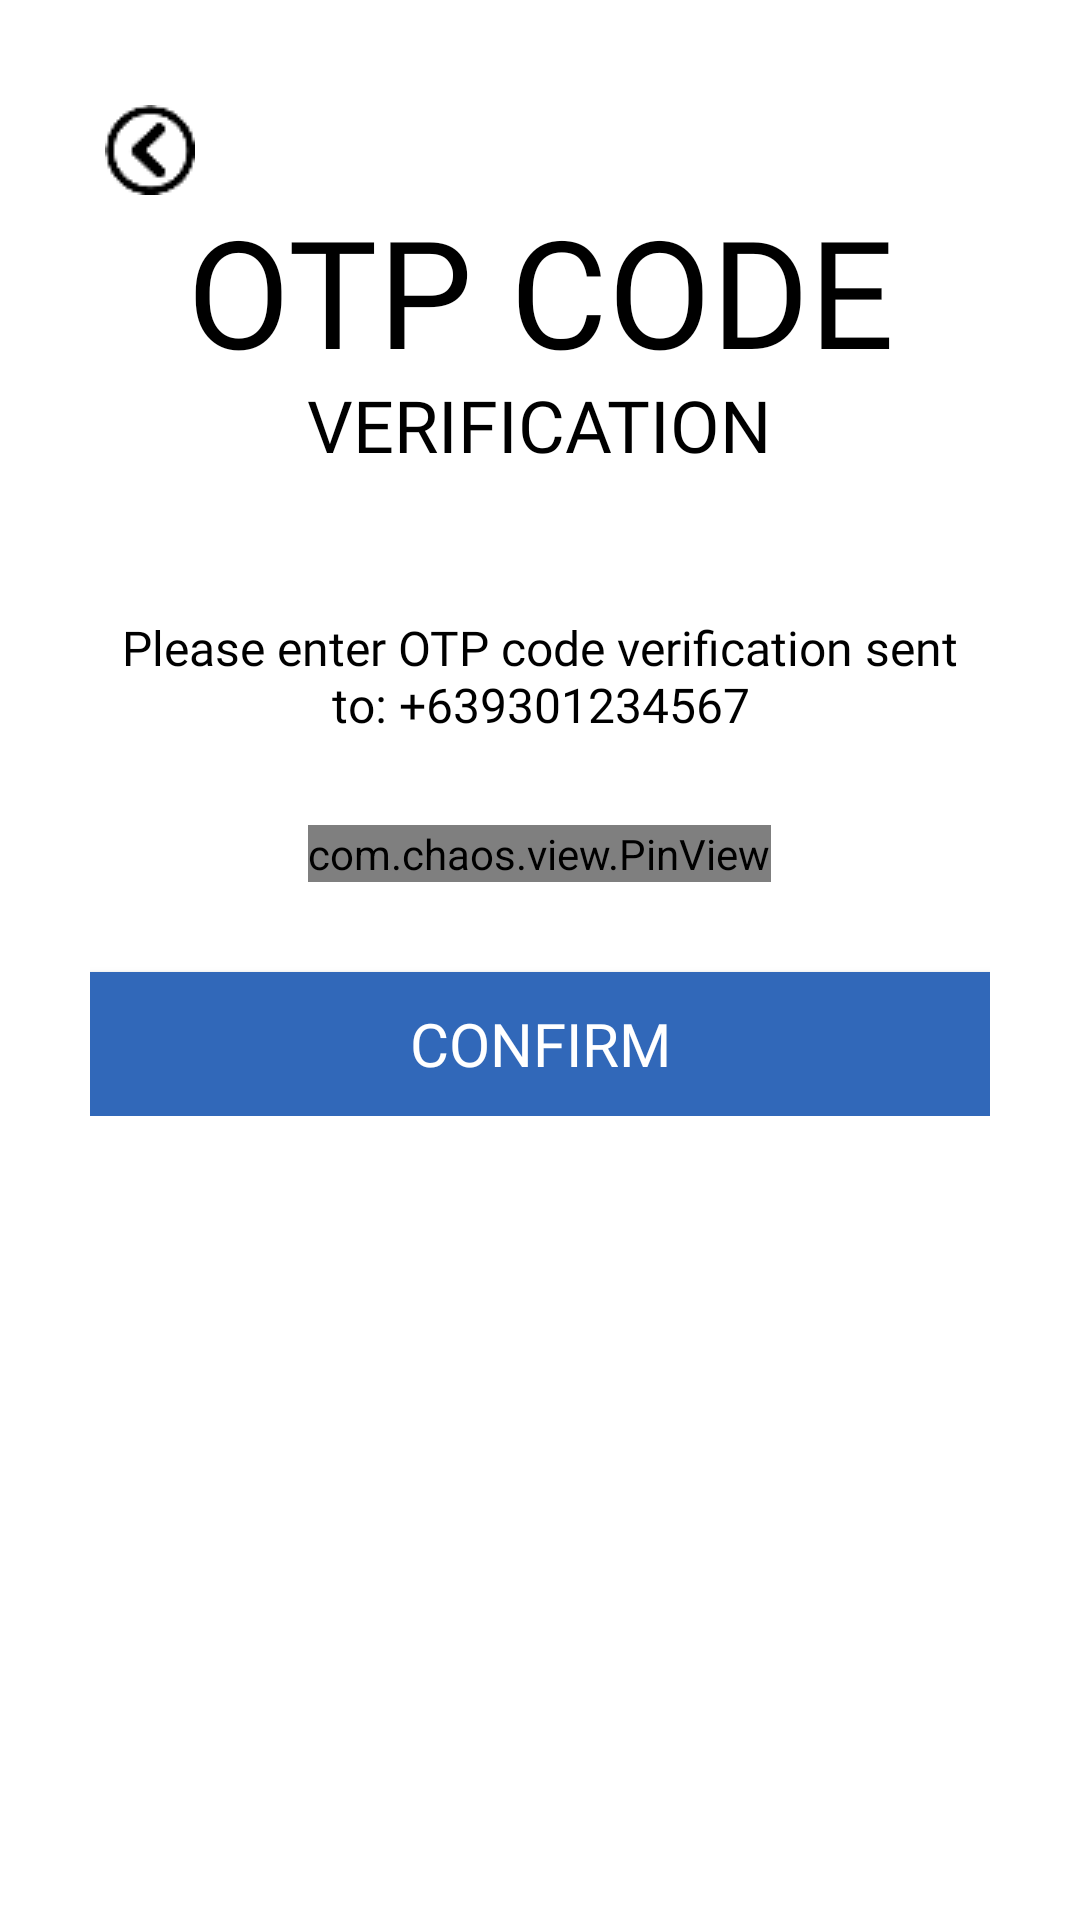

Icon bounding boxes for this 1080x1920 phone screenshot, format (x1, y1, x2, y2):
backbtn: (105, 105, 195, 195)
